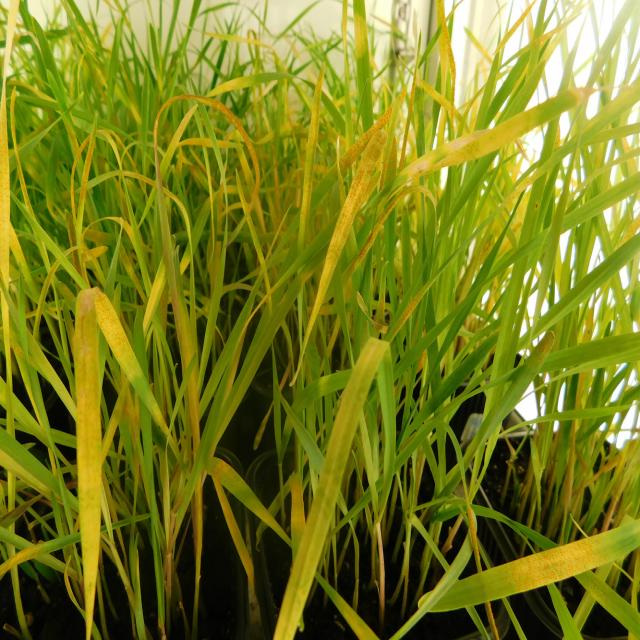wheat-yellowrust: (272, 337, 388, 640), (293, 125, 388, 378), (427, 518, 640, 612), (72, 289, 131, 627)
